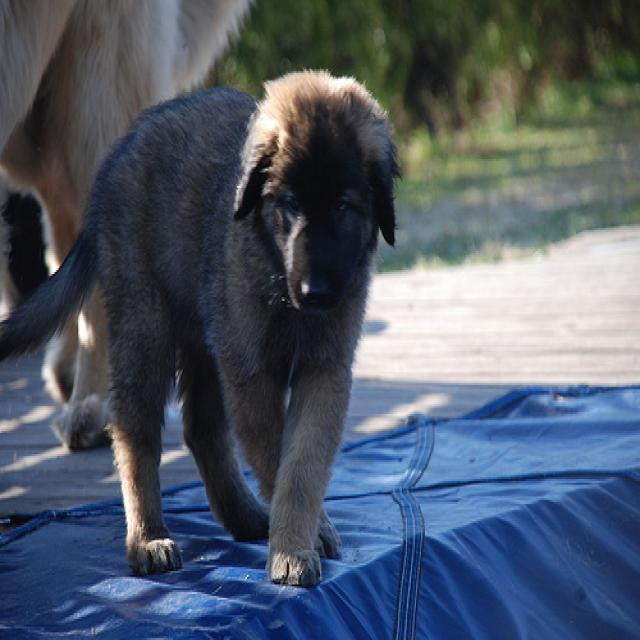dog-leonberger: (1, 2, 413, 600)
